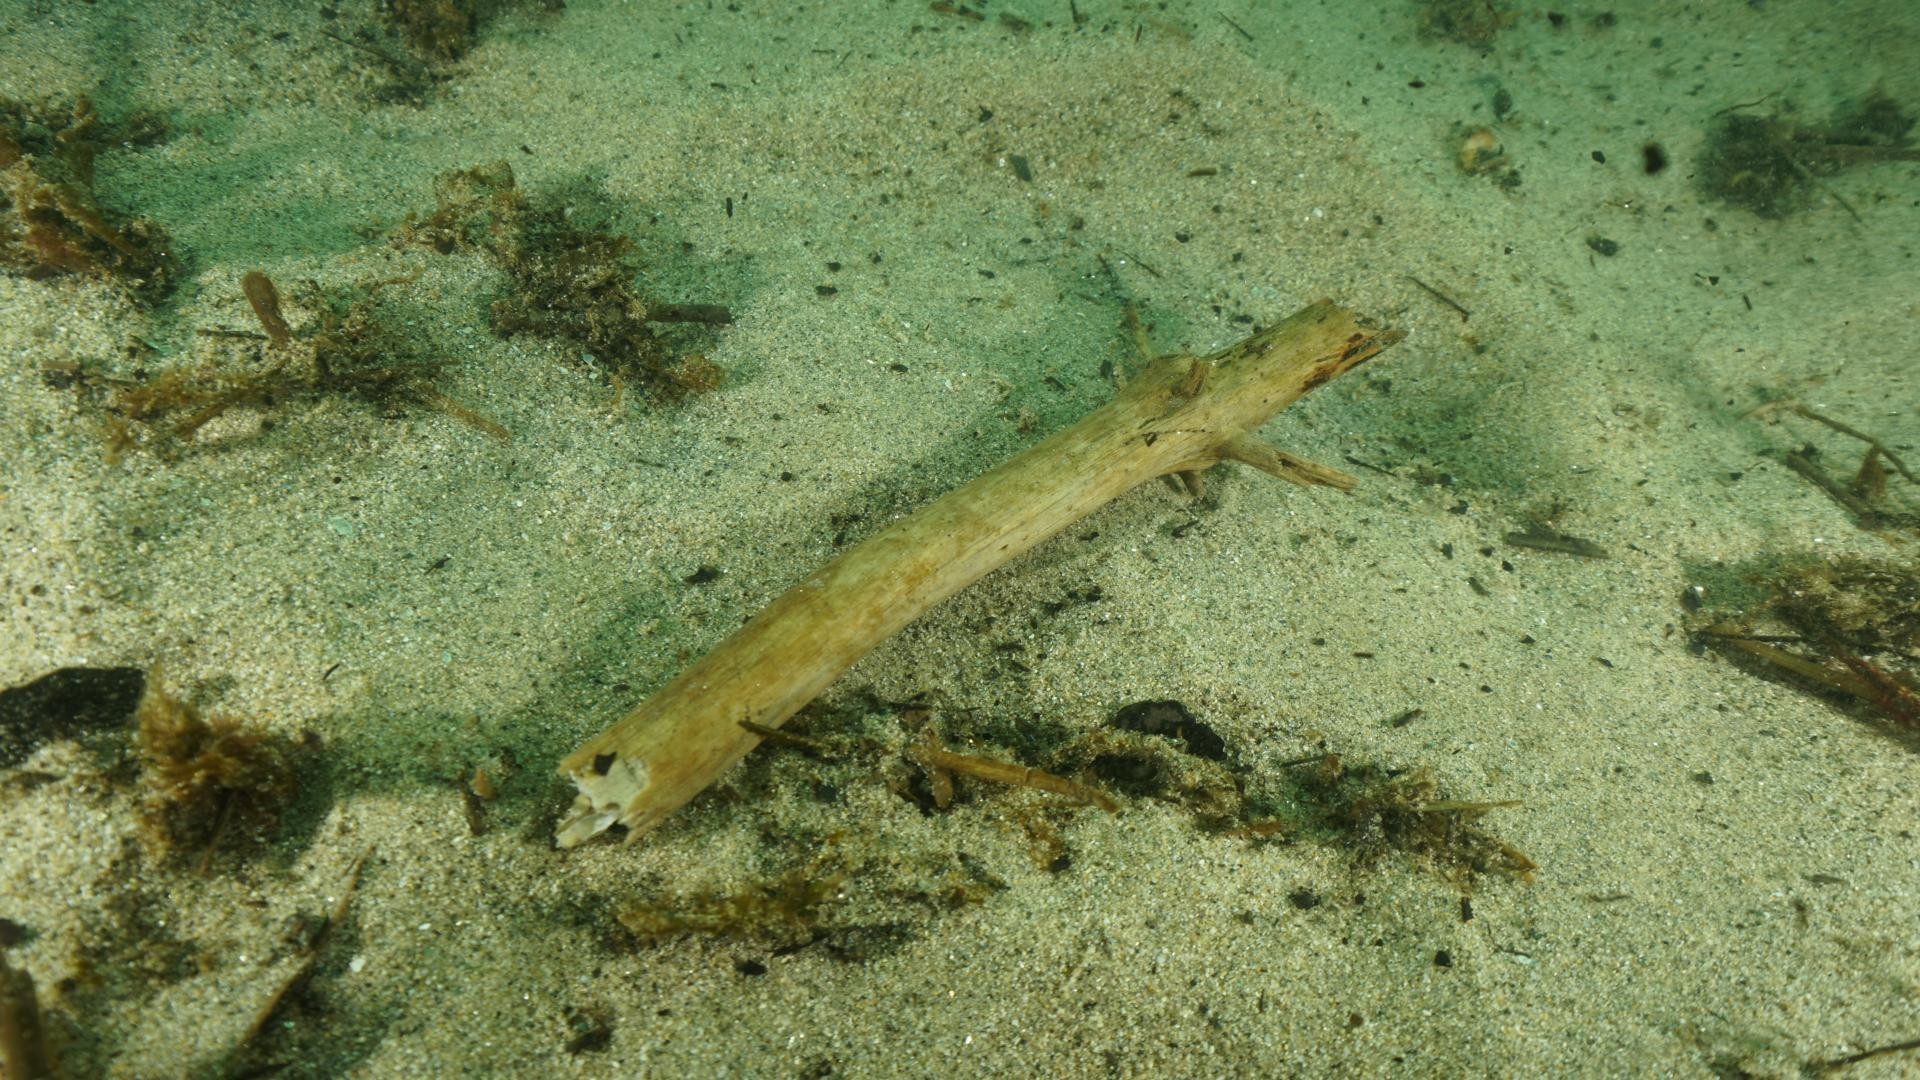wood: (550, 249, 1410, 847)
